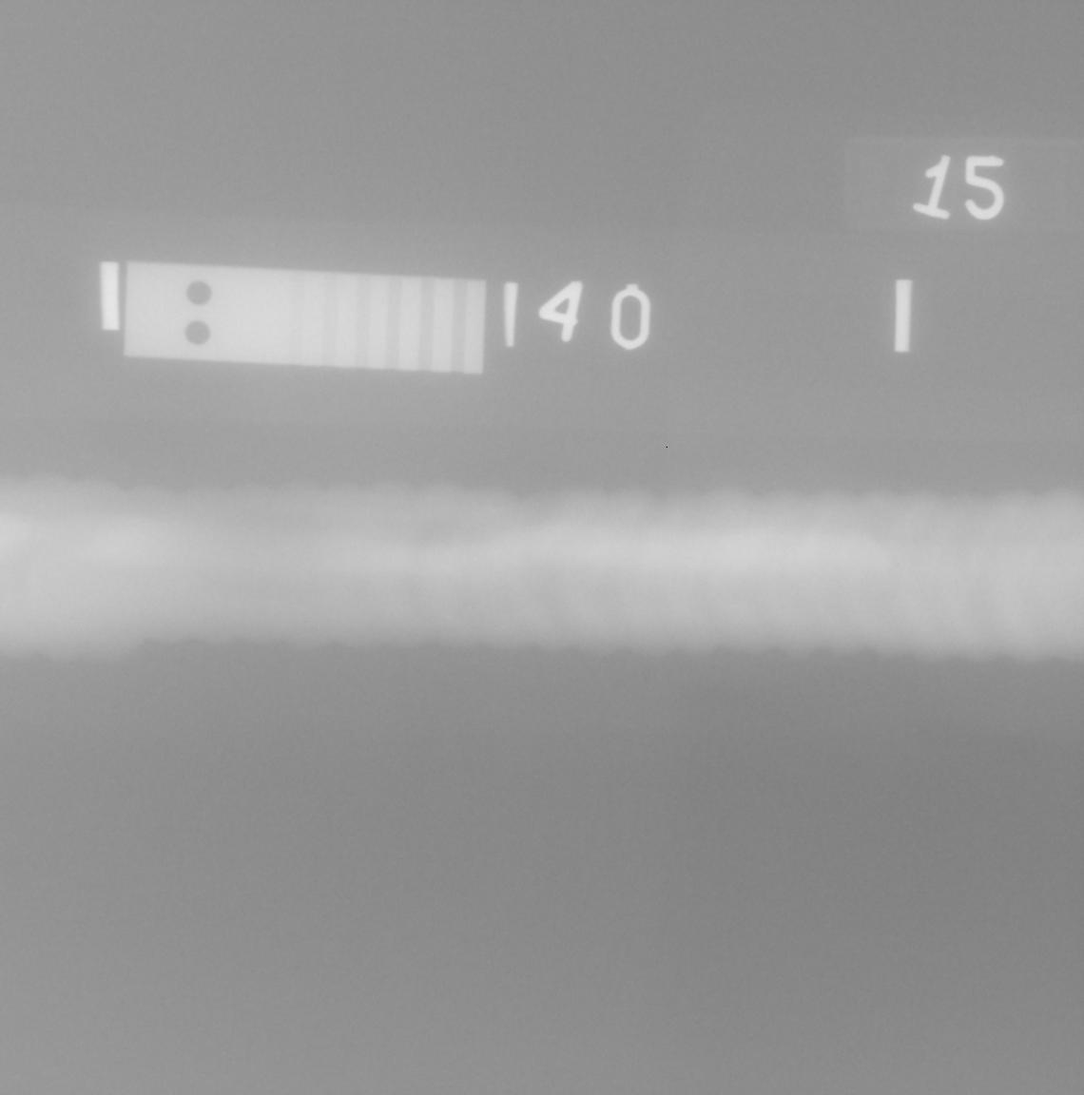Reference Standard 2: (123, 260, 486, 375)
